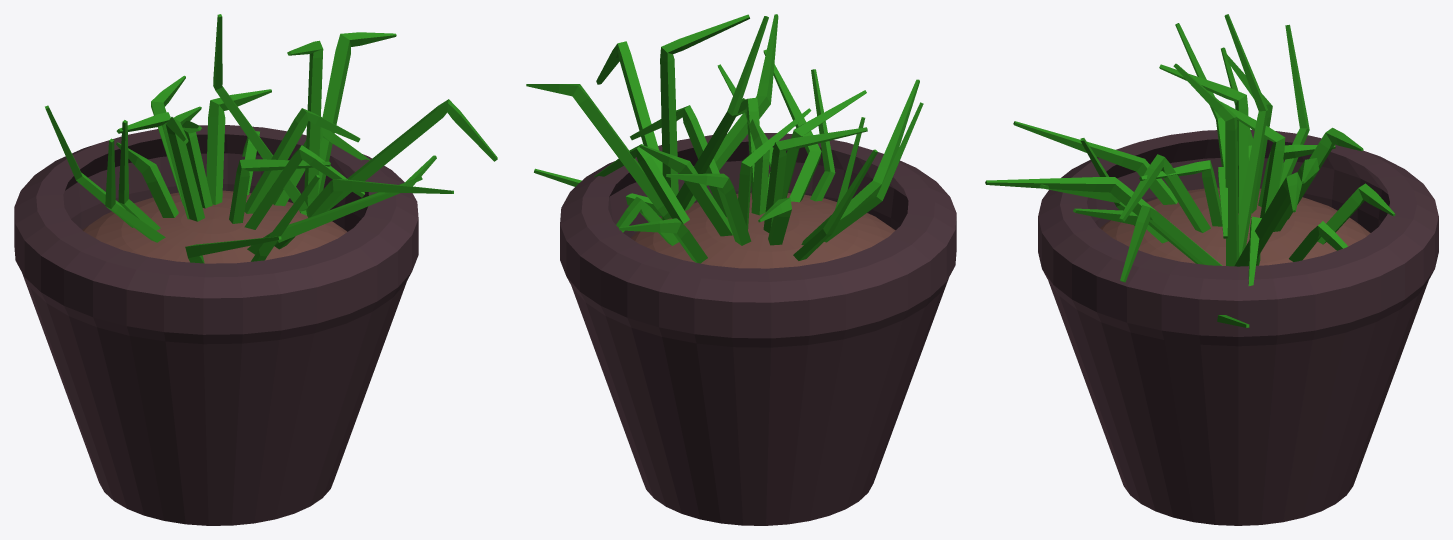
File: PlantTiny.fbx
The picture shows the model from 3 angles, left to right: view 1: azimuth 30°, elevation 25°; view 2: azimuth 150°, elevation 25°; view 3: azimuth 270°, elevation 25°; orthographic projection.
Visible parts, largest first — view 1: PlantTiny; view 2: PlantTiny; view 3: PlantTiny.
Boxes of the visible parts, x1,y1,x2,y2 form: PlantTiny: (14, 14, 497, 525); PlantTiny: (526, 14, 956, 525); PlantTiny: (985, 14, 1438, 525).
Size of the model in its own units: 117 by 117 by 131.
